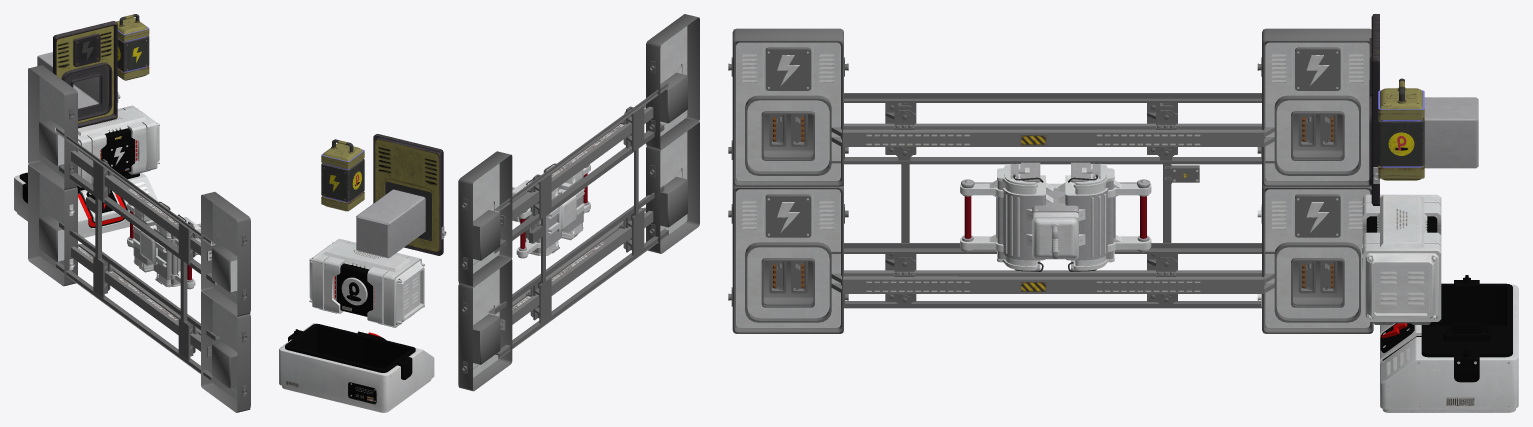
File: BaterryKit.fbx
The picture shows the model from 3 angles, left to right: view 1: azimuth 30°, elevation 25°; view 2: azimuth 150°, elevation 25°; view 3: azimuth 270°, elevation 25°; orthographic projection. The views are drawn at different scales.
Visible parts, largest first — view 1: SM_TrackBattery_Track_A.mo, SM_BatteryFrame.mo, SM_Battery_Large_A.mo, SM_TrackBattery_A.mo, SM_BatteryCharger_Large_A.mo, SM_Battery.mo; view 2: SM_TrackBattery_Track_A.mo, SM_BatteryCharger_Large_A.mo, SM_BatteryFrame.mo, SM_Battery_Large_A.mo, SM_TrackBattery_A.mo, SM_Battery.mo; view 3: SM_TrackBattery_Track_A.mo, SM_BatteryCharger_Large_A.mo, SM_TrackBattery_A.mo, SM_Battery_Large_A.mo, SM_BatteryFrame.mo, SM_Battery.mo.
Part boxes in pixels (x1,y1,x2,y2): SM_TrackBattery_Track_A.mo: (28,65,250,412); SM_BatteryFrame.mo: (37,21,120,128); SM_Battery_Large_A.mo: (77,105,159,187); SM_TrackBattery_A.mo: (127,201,200,289); SM_BatteryCharger_Large_A.mo: (14,172,157,237); SM_Battery.mo: (116,14,149,80); SM_TrackBattery_Track_A.mo: (458,14,699,391); SM_BatteryCharger_Large_A.mo: (279,323,434,412); SM_BatteryFrame.mo: (356,134,446,258); SM_Battery_Large_A.mo: (309,238,424,327); SM_TrackBattery_A.mo: (512,163,590,258); SM_Battery.mo: (321,139,364,211); SM_TrackBattery_Track_A.mo: (728,28,1373,333); SM_BatteryCharger_Large_A.mo: (1380,275,1518,412); SM_TrackBattery_A.mo: (960,162,1151,271); SM_Battery_Large_A.mo: (1362,194,1441,324); SM_BatteryFrame.mo: (1369,14,1478,205); SM_Battery.mo: (1378,78,1424,180).
Bounding box in the file's own units: 183 × 280 × 604.
